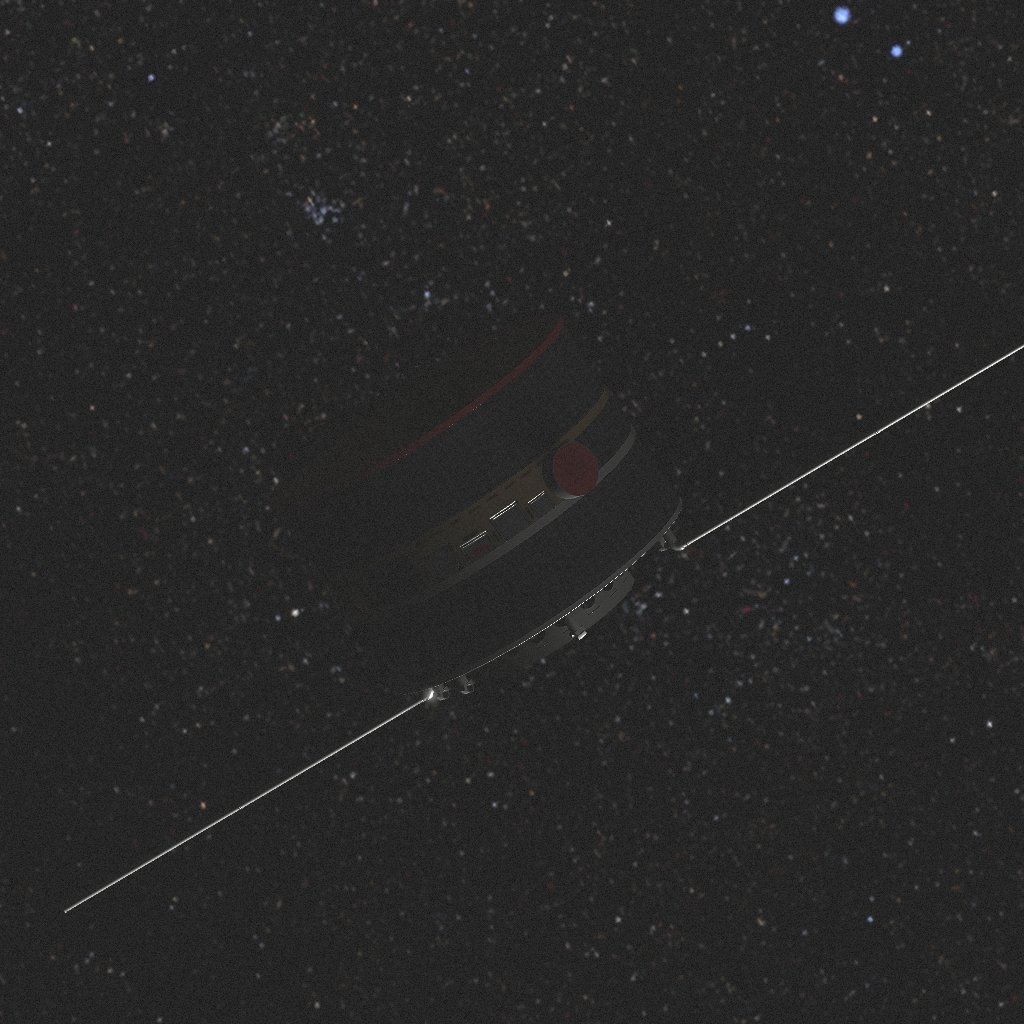double_star: (62, 100, 1024, 913)
